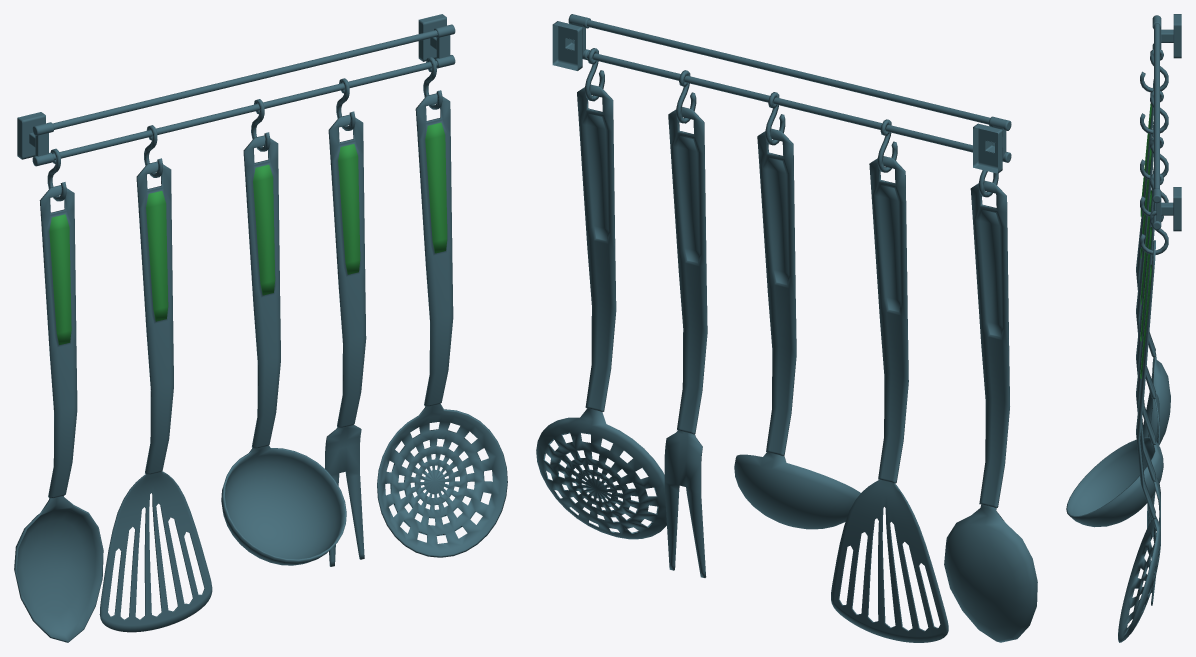
Rendered from set_3.obj.
3 renders of one model, left to right at view 1: azimuth 30°, elevation 25°; view 2: azimuth 150°, elevation 25°; view 3: azimuth 270°, elevation 25°, orthographic. The views are drawn at different scales.
Visible parts, largest first — view 1: set_3; view 2: set_3; view 3: set_3.
Boxes of the visible parts, x1,y1,x2,y2 form: set_3: (14,14,507,642); set_3: (536,14,1037,642); set_3: (1066,14,1181,642).
Size of the model in its own units: 36.98 by 38.38 by 8.63.
